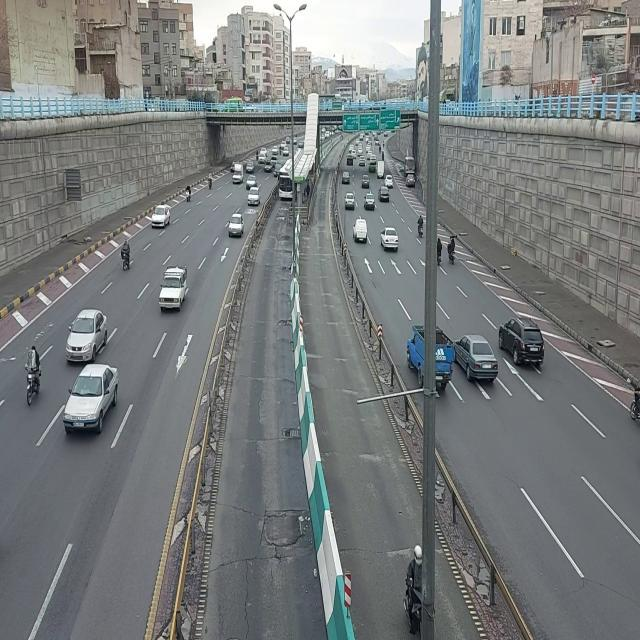Bus: (279, 158, 294, 202)
Car: (62, 362, 120, 439), (64, 304, 114, 364), (498, 315, 546, 368), (454, 333, 500, 387), (151, 203, 173, 231), (228, 210, 246, 242), (381, 225, 400, 253), (247, 186, 262, 208), (364, 192, 377, 212), (344, 191, 356, 212), (378, 184, 390, 204), (245, 175, 259, 189), (437, 236, 443, 267), (360, 173, 370, 190), (406, 174, 417, 188), (341, 171, 351, 185), (384, 174, 394, 188), (247, 159, 256, 174)
Motorcycle: (24, 342, 42, 412), (120, 235, 132, 275), (448, 231, 460, 267), (415, 212, 425, 242), (183, 183, 193, 205), (207, 171, 215, 193)
Pickup: (405, 318, 457, 398), (157, 262, 189, 316), (351, 214, 371, 247), (232, 162, 246, 186), (377, 159, 385, 181)
